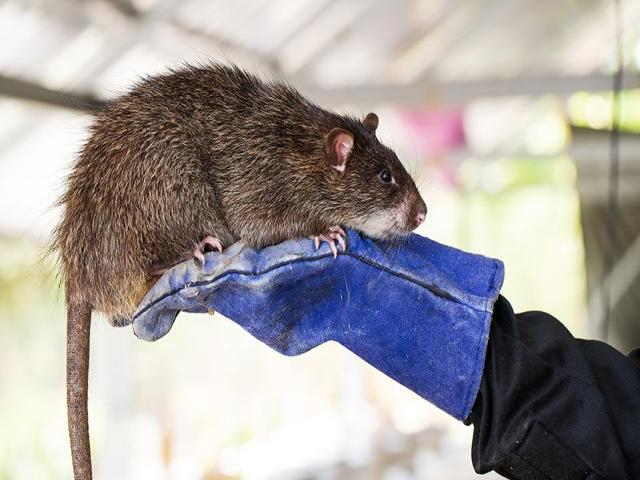Tikus: (59, 63, 428, 320)
